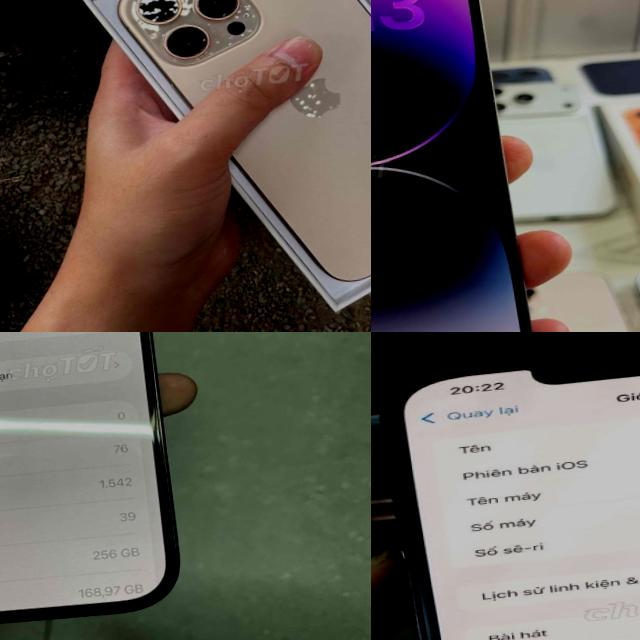gen_12_13: (391, 332, 640, 640)
gen_14: (371, 0, 555, 332)
gen_15: (0, 332, 206, 640)
gen_16: (116, 0, 371, 305)
